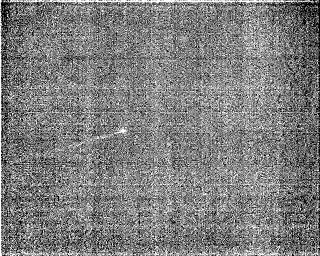AIRPLANE: (53, 127, 129, 155)
